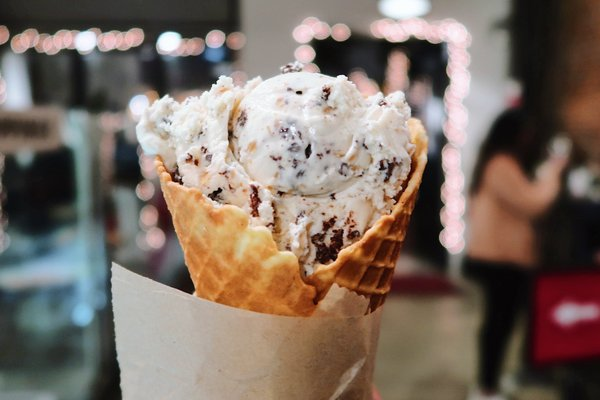sushi: (136, 68, 427, 317)
